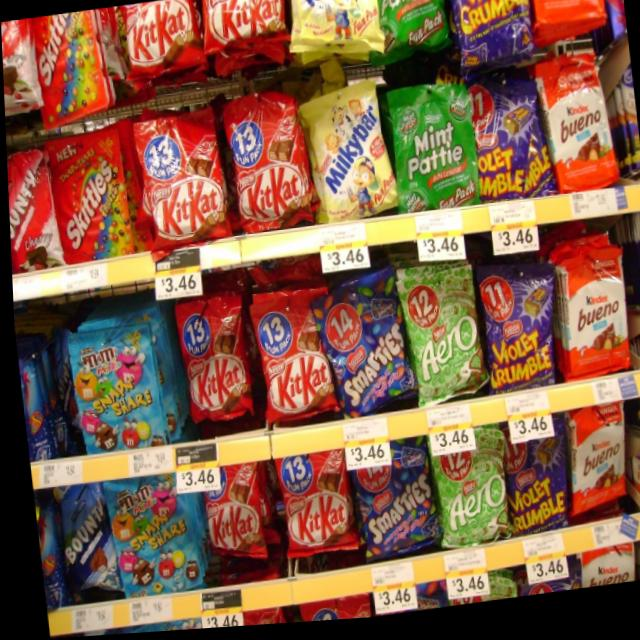q280: (242, 272, 342, 451), (221, 87, 310, 239), (129, 110, 228, 242), (169, 278, 253, 423), (201, 459, 274, 591), (271, 453, 348, 578)
